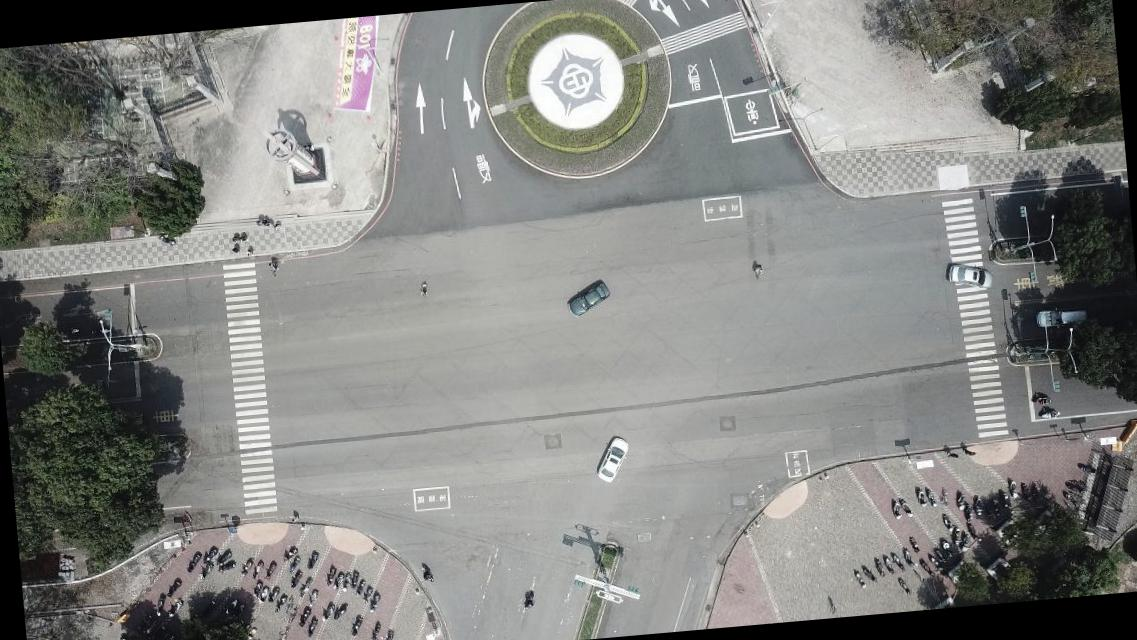vehicle: (592, 434, 632, 486), (562, 277, 612, 318), (943, 260, 993, 294), (1032, 305, 1086, 331)
